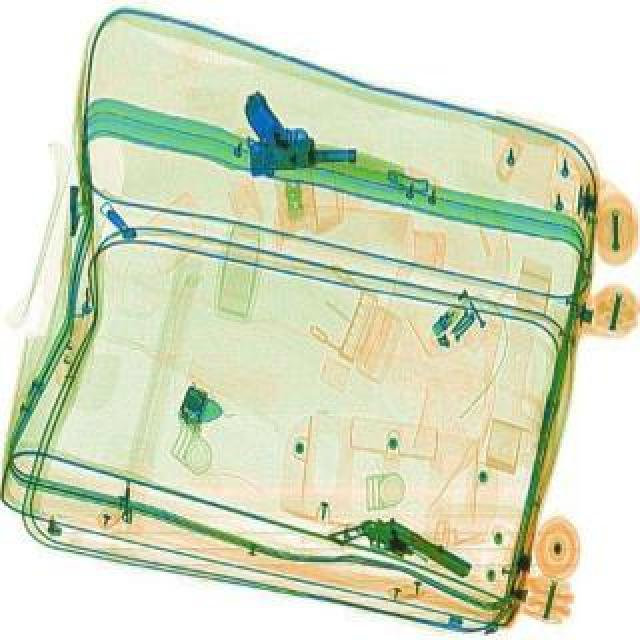gun: (328, 492, 476, 604), (240, 80, 360, 178)
